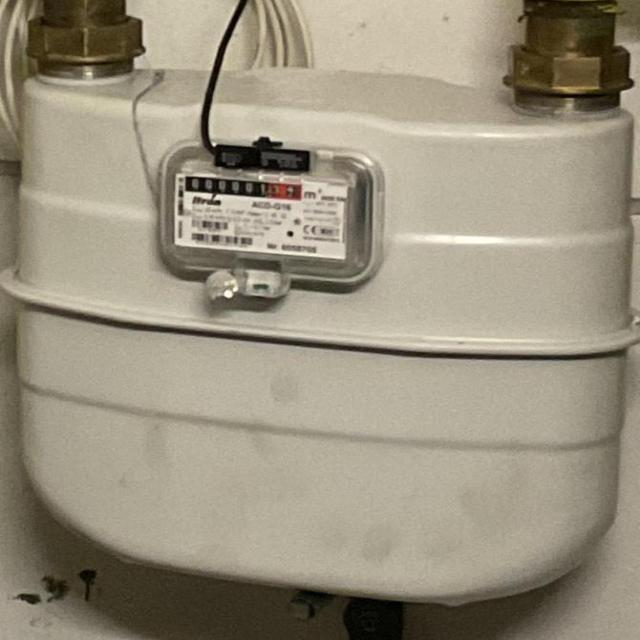gaz_meter: (166, 164, 356, 264)
indication: (185, 176, 302, 200)
